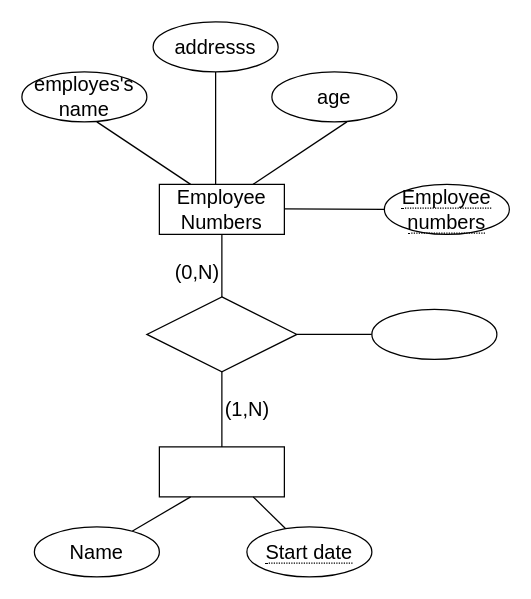
Image size: 531x599. Some labels were removed from this diagram. Each missing label, with the centre of its shape:
Billing rate: point (434, 333)
Projects: point (221, 471)
Work-on: point (221, 334)
